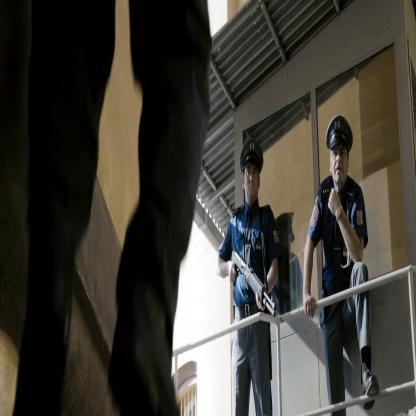gun: (231, 239, 284, 343)
